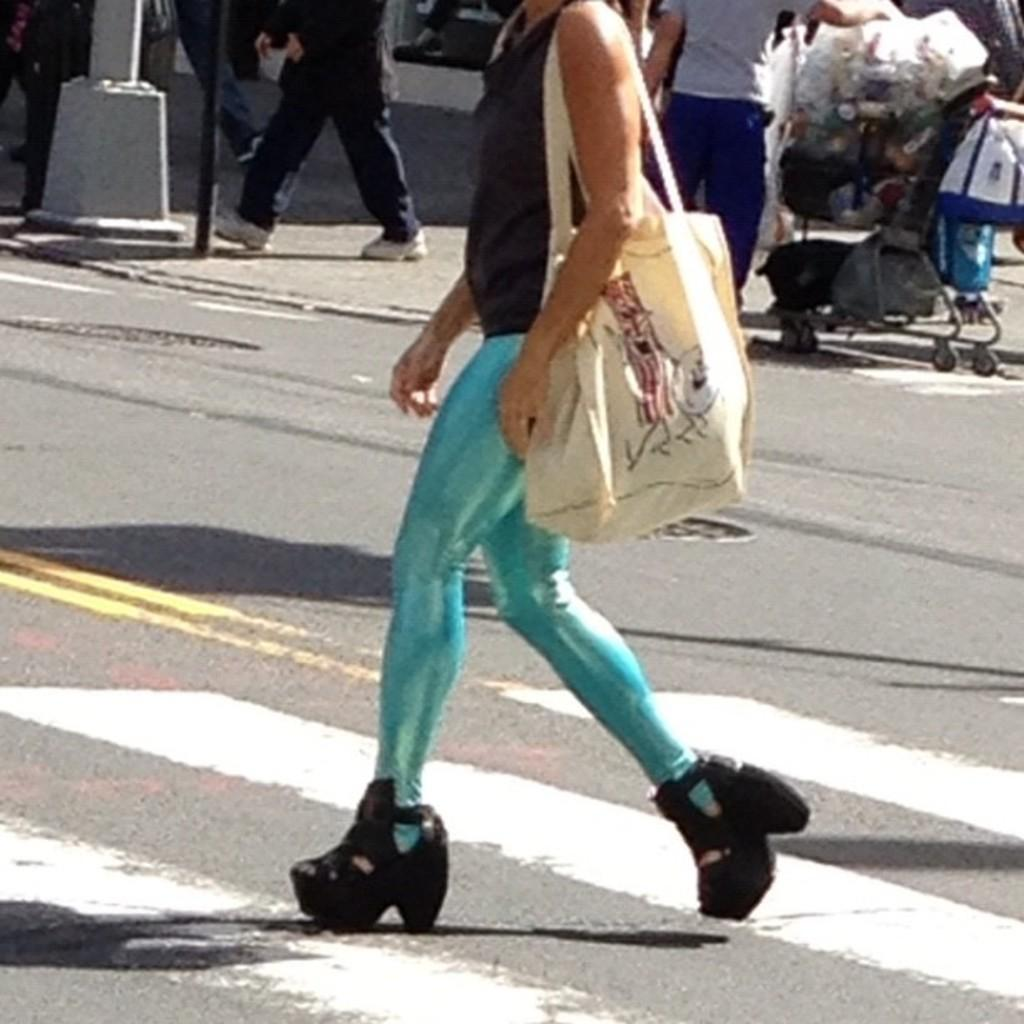Luggage-and-bags: (460, 30, 788, 577), (755, 8, 996, 246), (830, 236, 942, 326)
